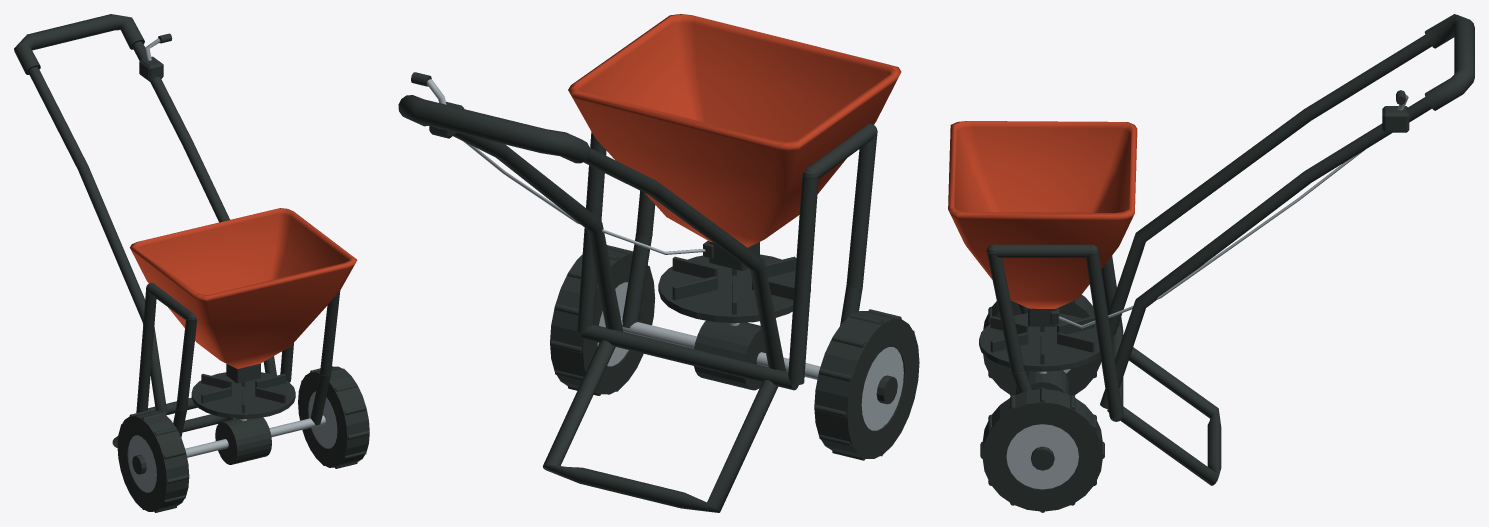
File: A-NEW-20261026-BROADCAST-SPREADER-001_LOD2_R6.glb
The picture shows the model from 3 angles, left to right: view 1: azimuth 30°, elevation 25°; view 2: azimuth 150°, elevation 25°; view 3: azimuth 270°, elevation 25°; orthographic projection. The views are drawn at different scales.
Visible parts, largest first — view 1: open tapered hopper and rolled lip, pneumatic style tire -1, pneumatic style tire 1, long handle rail -1, horizontal spreading plate, padded U grip, long handle rail 1, sealed central gearbox, side hopper support -1 segment 3, side hopper support -1 segment 1, wheel center hub -1, common wheel axle (+7 smaller); view 2: open tapered hopper and rolled lip, pneumatic style tire -1, rear parking stand, pneumatic style tire 1, long handle rail -1, padded U grip, horizontal spreading plate, long handle rail 1, lower support crossbar, side hopper support -1 segment 3, sealed central gearbox, side hopper support -1 segment 1 (+11 smaller); view 3: open tapered hopper and rolled lip, pneumatic style tire 1, long handle rail -1, long handle rail 1, rear parking stand, horizontal spreading plate, wheel center hub 1, padded U grip, side hopper support 1 segment 3, pneumatic style tire -1, side hopper support 1 segment 1, side hopper support 1 segment 2 (+3 smaller).
Boxes of the visible parts, left/top/right/bottom form: open tapered hopper and rolled lip: left=130, top=208, right=357, bottom=368; pneumatic style tire -1: left=117, top=410, right=189, bottom=511; pneumatic style tire 1: left=298, top=366, right=369, bottom=467; long handle rail -1: left=28, top=67, right=167, bottom=414; horizontal spreading plate: left=191, top=372, right=295, bottom=419; padded U grip: left=14, top=14, right=144, bottom=74; long handle rail 1: left=132, top=41, right=276, bottom=375; sealed central gearbox: left=215, top=417, right=271, bottom=464; side hopper support -1 segment 3: left=136, top=289, right=156, bottom=412; side hopper support -1 segment 1: left=176, top=319, right=196, bottom=410; wheel center hub -1: left=128, top=435, right=156, bottom=492; common wheel axle: left=185, top=415, right=325, bottom=457; open tapered hopper and rolled lip: left=568, top=14, right=901, bottom=247; pneumatic style tire -1: left=814, top=311, right=919, bottom=458; rear parking stand: left=543, top=340, right=777, bottom=512; pneumatic style tire 1: left=550, top=247, right=655, bottom=394; long handle rail -1: left=583, top=148, right=785, bottom=371; padded U grip: left=398, top=95, right=589, bottom=163; horizontal spreading plate: left=658, top=254, right=810, bottom=323; long handle rail 1: left=436, top=127, right=623, bottom=331; lower support crossbar: left=581, top=324, right=798, bottom=390; side hopper support -1 segment 3: left=788, top=176, right=818, bottom=384; sealed central gearbox: left=694, top=320, right=765, bottom=390; side hopper support -1 segment 1: left=846, top=134, right=877, bottom=287; open tapered hopper and rolled lip: left=948, top=121, right=1137, bottom=308; pneumatic style tire 1: left=982, top=389, right=1102, bottom=511; long handle rail -1: left=1108, top=35, right=1431, bottom=337; long handle rail 1: left=1100, top=97, right=1431, bottom=408; rear parking stand: left=1107, top=347, right=1221, bottom=485; horizontal spreading plate: left=979, top=313, right=1100, bottom=371; wheel center hub 1: left=1006, top=424, right=1078, bottom=489; padded U grip: left=1424, top=14, right=1474, bottom=110; side hopper support 1 segment 3: left=1086, top=252, right=1122, bottom=418; pneumatic style tire -1: left=983, top=295, right=1101, bottom=395; side hopper support 1 segment 1: left=987, top=253, right=1024, bottom=373; side hopper support 1 segment 2: left=994, top=244, right=1090, bottom=257.
Bounding box in the file's own units: 0.614 × 0.921 × 1.07.
